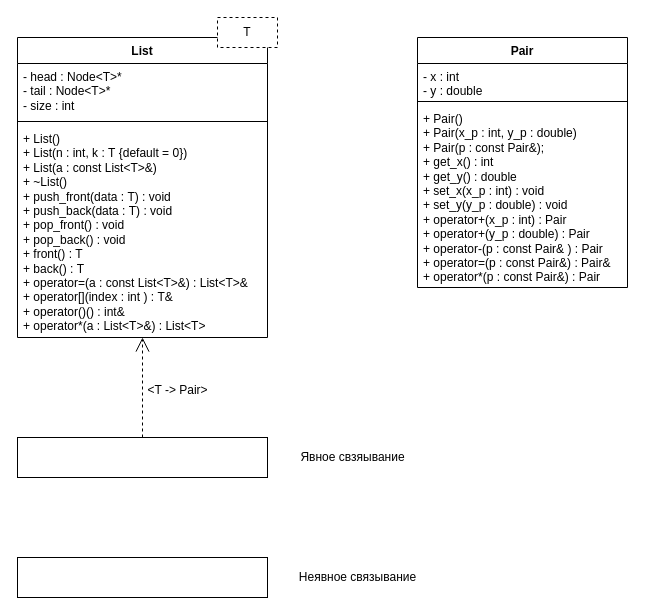
Image size: 645x615. Some labels were removed from this diagram. The shapes that lost their labels are listed below. From the top down, each one's centre as x and y in pixels, then its label:
At pixel 142 457: "lst_pair1".
At pixel 142 577: "lst_pair2 : List <T -> Pair>".
